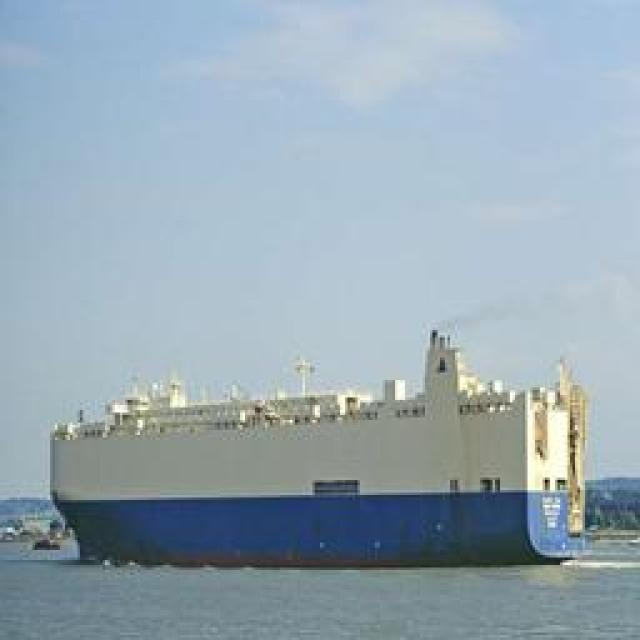CIV_Ship: (56, 308, 599, 562)
